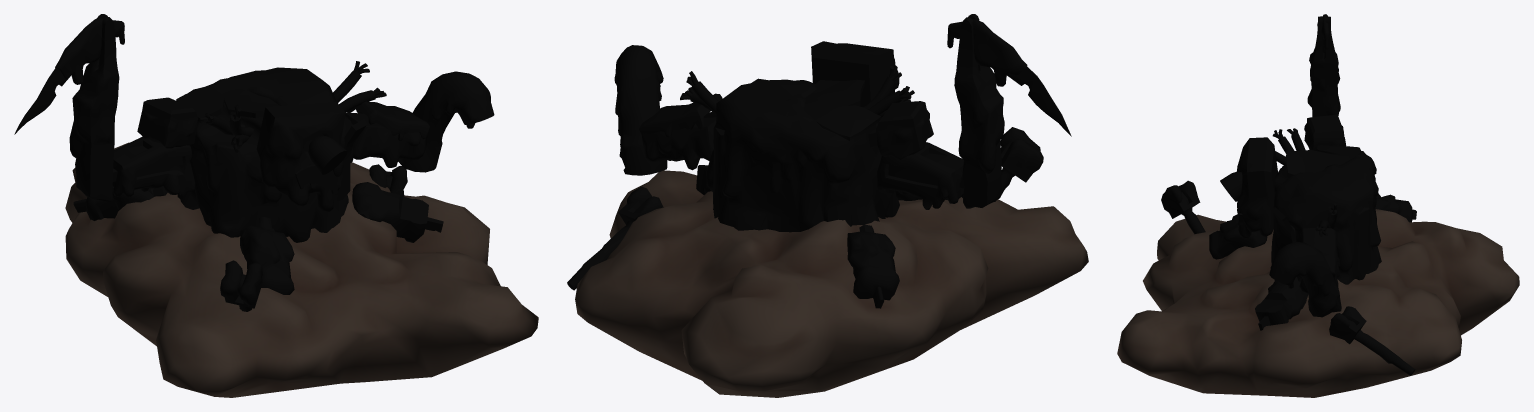
Rendered from env_burntforest_meltedbot01.fbx.
3 views of the same model, side by side, from view 1: azimuth 30°, elevation 25°; view 2: azimuth 150°, elevation 25°; view 3: azimuth 270°, elevation 25° (orthographic). The views are drawn at different scales.
Parts seen in each view (by area): view 1: env_forest_meltedbot01; view 2: env_forest_meltedbot01; view 3: env_forest_meltedbot01.
Part boxes in pixels (bbox=[...]): env_forest_meltedbot01: bbox=[14, 14, 538, 397]; env_forest_meltedbot01: bbox=[567, 14, 1088, 397]; env_forest_meltedbot01: bbox=[1117, 14, 1519, 397].
Bounding box in the file's own units: 22.51 × 17.69 × 22.05.
